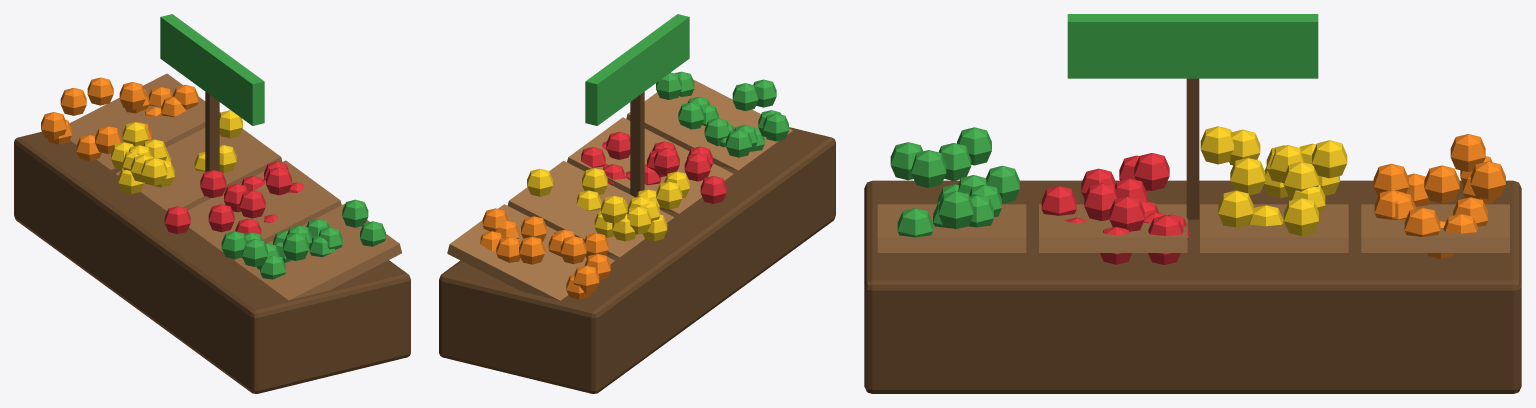
Rendered from produce-bin.glb.
3 views of the same model, side by side, from view 1: azimuth 30°, elevation 25°; view 2: azimuth 150°, elevation 25°; view 3: azimuth 270°, elevation 25° (orthographic). The views are drawn at different scales.
Parts seen in each view (by area): view 1: produce-bin; view 2: produce-bin; view 3: produce-bin.
Part boxes in pixels (bbox=[...]): produce-bin: bbox=[14, 14, 410, 393]; produce-bin: bbox=[439, 14, 835, 393]; produce-bin: bbox=[864, 14, 1521, 393].
Size of the model in its own units: 1.6 by 2.3 by 4.2.
